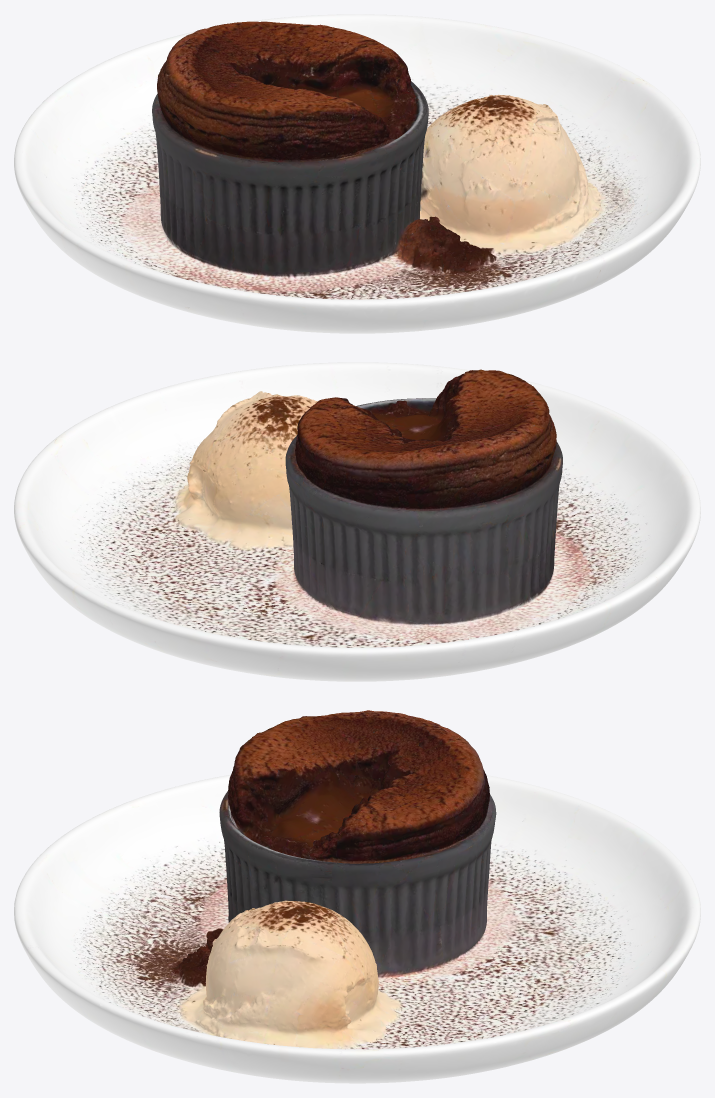
Rendered from souffle-chocolat-meshopt-0ad050af.glb.
The picture shows the model from 3 angles, top to bottom: view 1: azimuth 30°, elevation 25°; view 2: azimuth 150°, elevation 25°; view 3: azimuth 270°, elevation 25°; orthographic projection.
Size of the model in its own units: 1.9 by 0.5934 by 1.9.
1 material, 1 textured.
